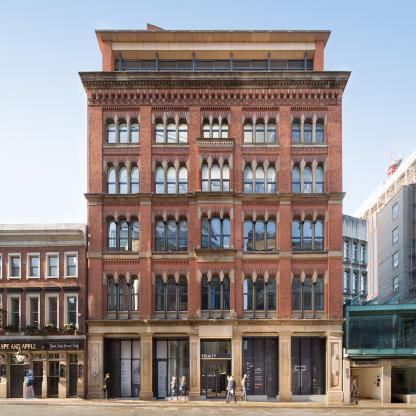Building Outline: (78, 23, 352, 401)
Door: (207, 363, 226, 400), (156, 359, 167, 399), (266, 359, 276, 398), (109, 359, 119, 398), (313, 359, 323, 393)
Door Hole: (242, 336, 279, 401), (103, 337, 140, 400), (153, 337, 190, 400), (291, 336, 326, 395)
Facade: (87, 71, 342, 401)
Floor: (87, 82, 342, 148), (87, 260, 342, 321), (87, 203, 342, 254), (87, 154, 342, 198)
Floor Slab: (87, 254, 342, 260), (87, 198, 342, 204), (87, 148, 342, 154), (87, 76, 342, 82), (89, 321, 342, 327)
Glass Wall: (243, 340, 254, 395), (120, 341, 131, 396), (301, 340, 312, 394), (168, 341, 179, 394), (255, 340, 265, 395), (291, 340, 301, 394), (179, 341, 189, 394), (200, 338, 232, 353), (132, 341, 140, 396), (252, 61, 287, 68), (156, 341, 167, 358), (266, 339, 276, 357), (313, 339, 323, 357), (288, 61, 313, 68), (116, 61, 141, 68), (109, 341, 119, 358), (227, 361, 231, 394), (141, 61, 159, 68), (177, 61, 195, 68), (233, 61, 251, 68), (214, 61, 232, 68), (160, 61, 177, 68), (196, 61, 213, 68), (202, 361, 205, 394)
Ground Floor: (88, 326, 342, 401)
Molding: (86, 89, 343, 105), (81, 80, 348, 89), (84, 319, 347, 326), (102, 148, 140, 156), (151, 148, 189, 156), (242, 148, 280, 156), (291, 148, 328, 156), (102, 259, 140, 265), (102, 201, 140, 207), (151, 201, 189, 207), (242, 201, 280, 207), (291, 201, 329, 207), (291, 258, 329, 264), (242, 258, 280, 264), (151, 259, 189, 265), (198, 148, 233, 154), (151, 107, 190, 111), (102, 107, 141, 111), (290, 107, 328, 111), (242, 107, 280, 111), (200, 107, 231, 111)
Shop: (202, 354, 217, 358)
Sill: (193, 248, 237, 262), (194, 191, 237, 204), (196, 138, 235, 148)
Top Floor: (103, 40, 324, 76)
Window: (210, 216, 221, 248), (211, 276, 221, 310), (243, 277, 253, 311), (255, 277, 265, 311), (303, 277, 313, 310), (303, 219, 313, 251), (255, 219, 265, 251), (267, 277, 276, 311), (155, 219, 164, 252), (167, 219, 176, 252), (107, 219, 116, 252), (119, 219, 128, 252), (155, 278, 164, 311), (167, 278, 176, 311), (107, 278, 116, 311), (119, 278, 128, 311), (315, 277, 324, 310), (292, 277, 301, 310), (315, 219, 324, 251), (292, 219, 301, 251), (267, 219, 276, 251), (244, 219, 253, 251), (315, 165, 325, 193), (131, 219, 139, 252), (179, 219, 187, 252), (179, 278, 187, 311), (131, 278, 139, 311), (201, 216, 209, 248), (155, 166, 164, 194), (167, 166, 176, 194), (211, 163, 220, 191), (244, 165, 253, 193), (255, 165, 264, 193), (267, 165, 276, 193), (292, 165, 301, 193), (303, 165, 312, 193), (223, 276, 230, 310), (201, 276, 208, 310), (107, 166, 115, 194), (119, 166, 127, 194), (131, 166, 139, 194), (179, 166, 187, 194), (223, 216, 230, 248), (155, 123, 164, 143), (167, 123, 176, 143), (315, 122, 324, 142), (244, 122, 253, 142), (255, 122, 264, 142), (267, 122, 276, 142), (292, 122, 301, 142), (223, 163, 229, 191), (202, 163, 208, 191), (179, 123, 187, 143), (131, 123, 139, 143), (107, 123, 115, 143), (119, 123, 127, 143), (304, 122, 312, 142), (221, 122, 228, 138), (203, 122, 210, 138), (212, 122, 219, 138)
Window Hole: (154, 274, 188, 320), (105, 274, 139, 320), (243, 274, 277, 319), (292, 274, 325, 319), (201, 272, 230, 319), (105, 216, 139, 252), (154, 216, 187, 252), (292, 215, 325, 251), (244, 215, 277, 251), (201, 212, 230, 248), (165, 163, 176, 194), (315, 162, 325, 193), (105, 163, 115, 194), (117, 163, 127, 194), (129, 163, 139, 194), (154, 163, 164, 194), (177, 163, 187, 194), (244, 162, 254, 193), (255, 162, 265, 193), (267, 162, 277, 193), (292, 162, 302, 193), (303, 162, 313, 193), (211, 159, 220, 191), (222, 160, 230, 191), (105, 119, 115, 143), (117, 119, 127, 143), (129, 119, 139, 143), (154, 119, 164, 143), (166, 119, 176, 143), (315, 118, 325, 142), (255, 118, 265, 142), (267, 118, 277, 142), (292, 118, 302, 142), (201, 160, 208, 191), (178, 119, 187, 143), (244, 118, 253, 142), (304, 118, 313, 142), (221, 118, 228, 138), (203, 118, 210, 138), (212, 118, 219, 138)
